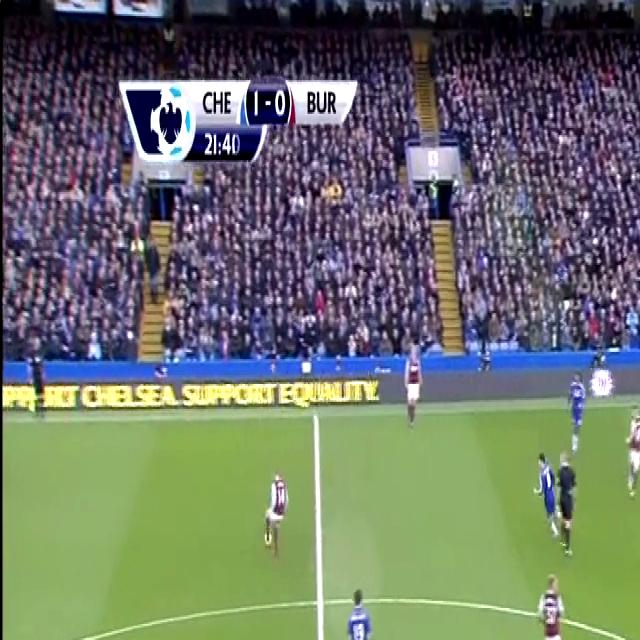ball: (259, 522, 274, 553)
referee: (556, 448, 586, 567), (21, 322, 51, 417)
soccer-player: (256, 464, 292, 571), (532, 558, 573, 640), (527, 442, 561, 540), (335, 576, 383, 640), (398, 336, 426, 423), (565, 364, 591, 454), (622, 396, 640, 498)
